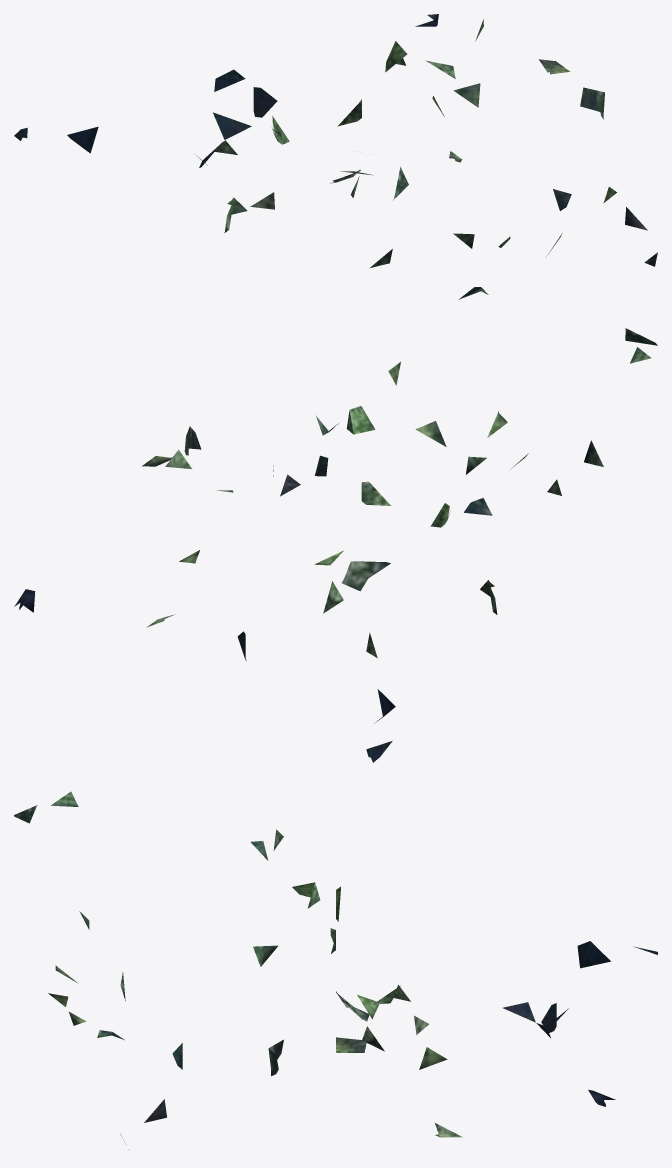
3 renders of one model, top to bottom at view 1: azimuth 30°, elevation 25°; view 2: azimuth 150°, elevation 25°; view 3: azimuth 270°, elevation 25°, orthographic. The views are drawn at different scales.
Parts seen in each view (by area): view 1: 30436272704361414626_1; view 2: 30436272704361414626_1; view 3: 30436272704361414626_1.
Part boxes in pixels (x1=…): 30436272704361414626_1: x1=14, y1=14, x2=657, y2=299; 30436272704361414626_1: x1=14, y1=328, x2=657, y2=762; 30436272704361414626_1: x1=14, y1=791, x2=657, y2=1149.
Bounding box in the file's own units: 26.24 × 13.41 × 38.26.
Materials: 1 (1 with a texture image).
